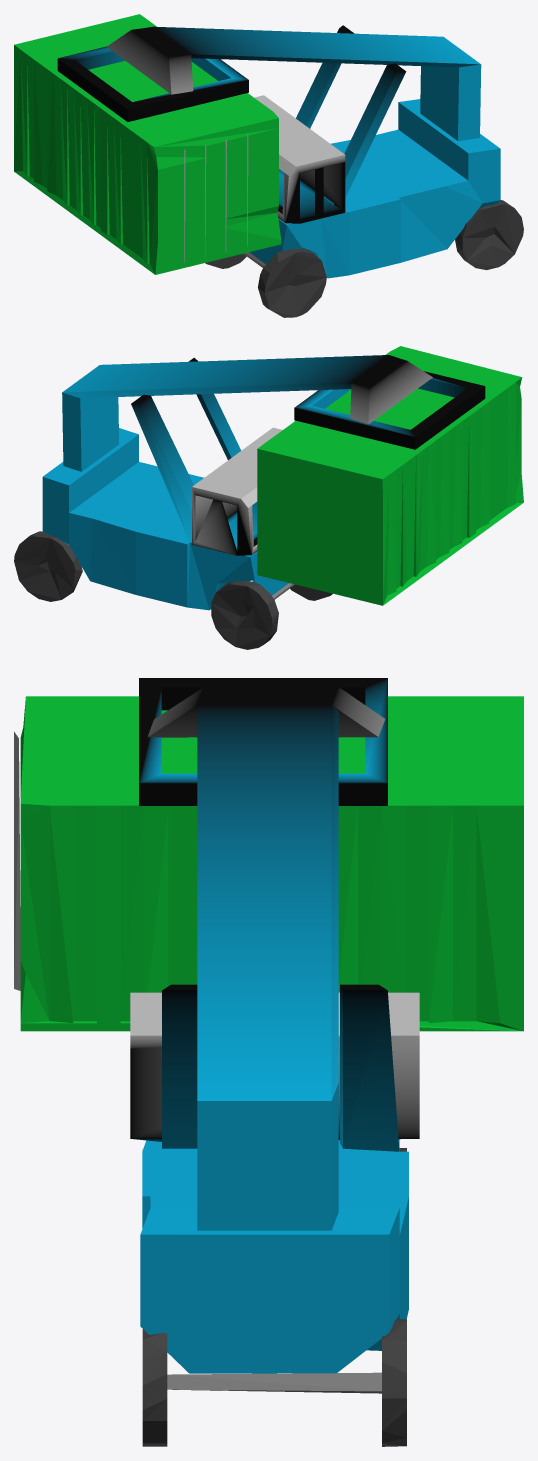
File: reach-stacker.lod1.glb
3 views of the same model, one above another, from view 1: azimuth 30°, elevation 25°; view 2: azimuth 150°, elevation 25°; view 3: azimuth 270°, elevation 25° (orthographic). The views are drawn at different scales.
Parts seen in each view (by area): view 1: Cube_Material_0; view 2: Cube_Material_0; view 3: Cube_Material_0.
Boxes of the visible parts, x1=… form: Cube_Material_0: x1=14, y1=14, x2=523, y2=317; Cube_Material_0: x1=14, y1=346, x2=523, y2=649; Cube_Material_0: x1=14, y1=678, x2=523, y2=1446.
Size of the model in its own units: 12 by 7.8 by 7.39.
